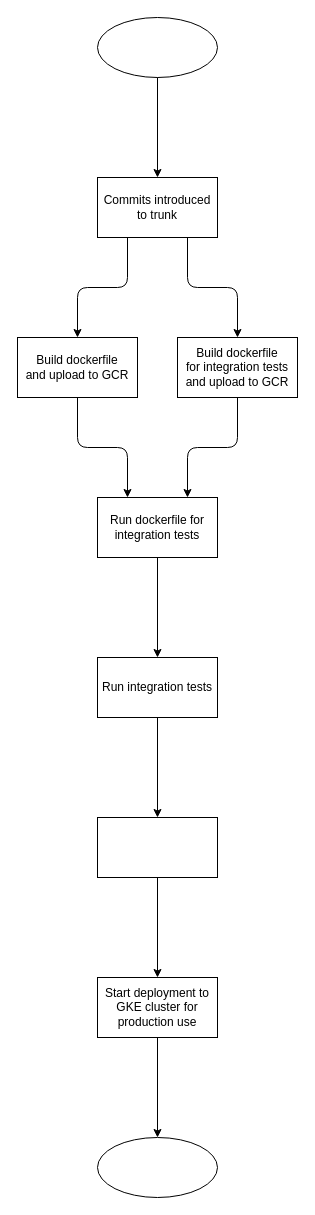
The diagram is 315 pixels wide and 1215 high, and some of its shapes have lost their labels. Each missing label, with the centre of its shape:
"End process" goes at point (157, 1167).
"Start process" goes at point (157, 47).
"Tear down GKE clusters" goes at point (157, 847).
